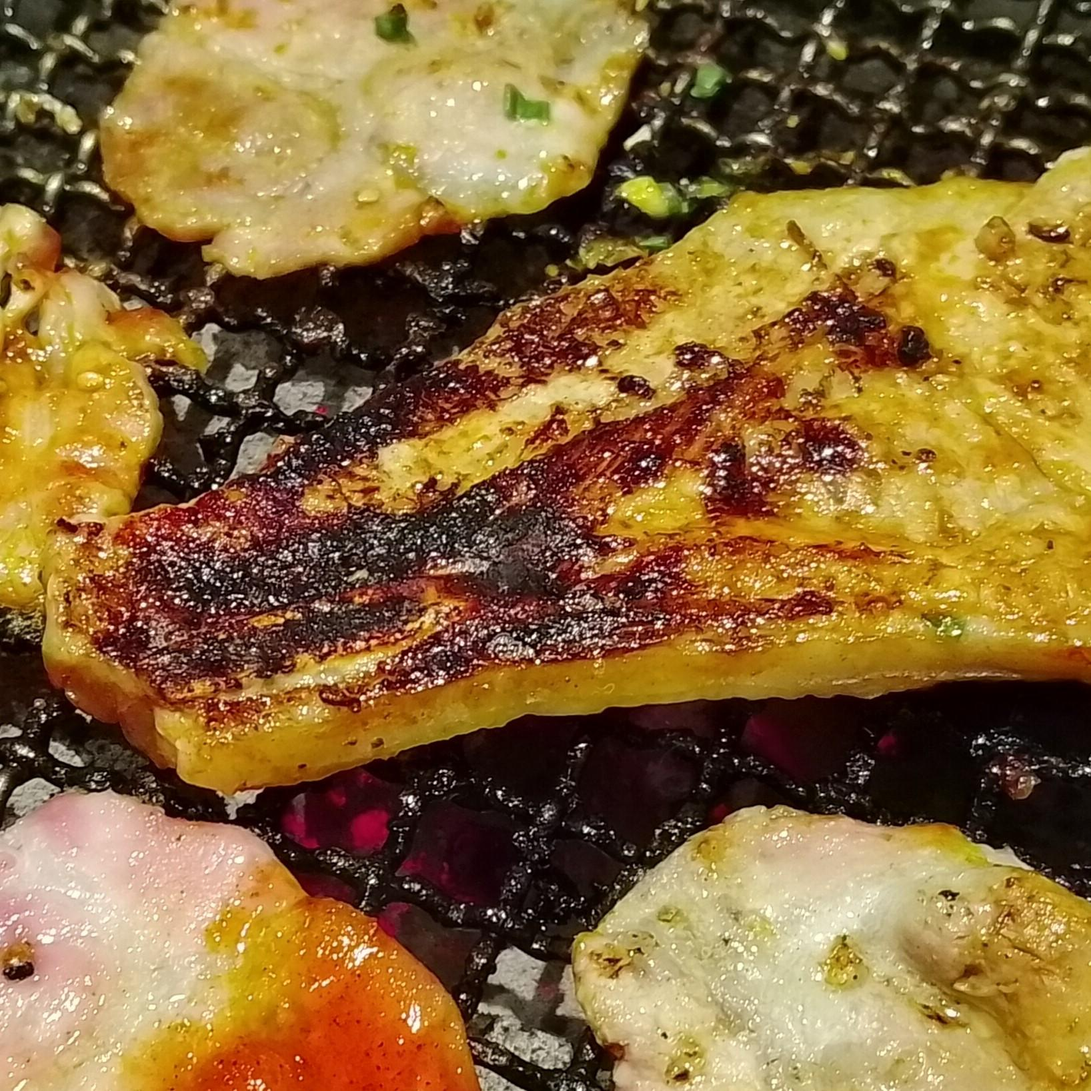Overcooked: (43, 148, 1090, 794)
